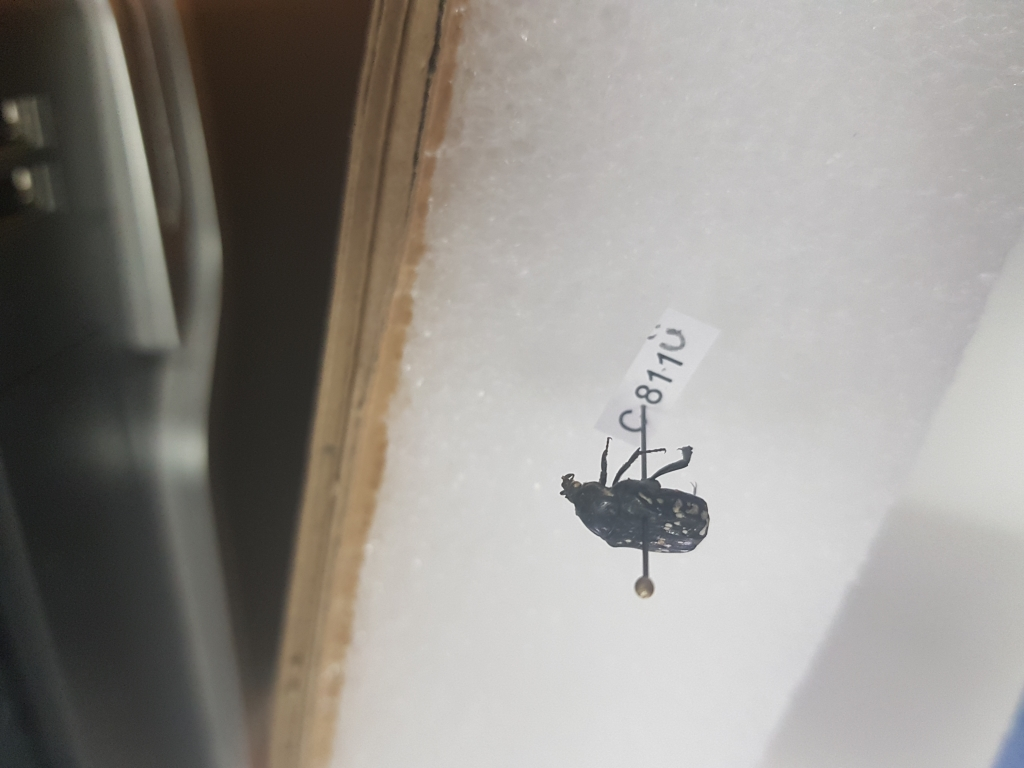Oxythyrea_albopicta: (559, 465, 729, 566)
